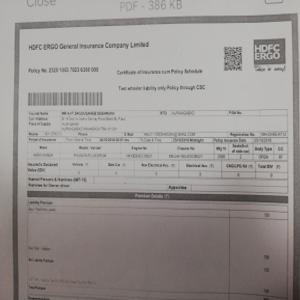image: (253, 39, 287, 64)
table: (28, 190, 289, 299), (26, 135, 289, 194), (28, 108, 290, 132)
text: (25, 39, 154, 52), (115, 64, 205, 77)
